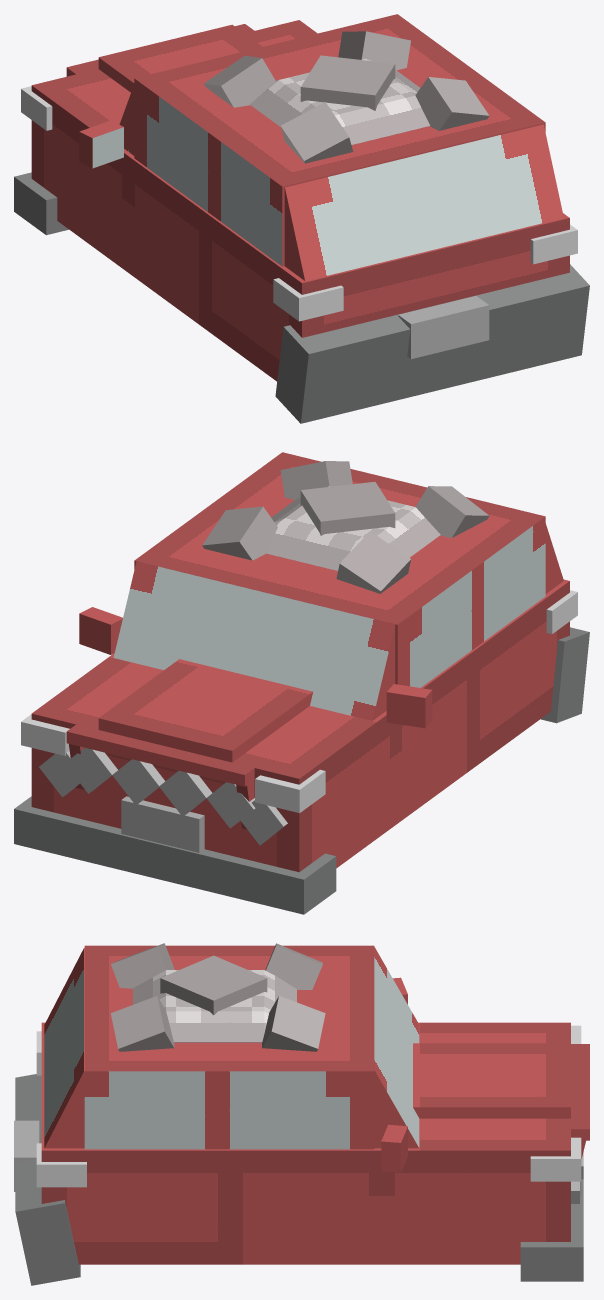
File: dante_car32.fbx
The picture shows the model from 3 angles, top to bottom: view 1: azimuth 30°, elevation 25°; view 2: azimuth 150°, elevation 25°; view 3: azimuth 270°, elevation 25°; orthographic projection. The views are drawn at different scales.
Visible parts, largest first — view 1: cube, cube_1, cube_5, cube_7, group2, beveled_cuboid, cube_2, cube_19, cube_3, cube_20, group, cube_21 (+2 smaller); view 2: cube, cube_1, cube_6, group2, cube_3, cube_2, beveled_cuboid, cube_4, group, cube_18, cube_7, cube_16 (+9 smaller); view 3: cube, cube_1, group2, cube_2, cube_5, cube_6, cube_7, beveled_cuboid, cube_3, cube_4, cube_17, cube_21 (+2 smaller).
Boxes of the visible parts, x1=… form: cube: x1=31, y1=20, x2=569, y2=381; cube_1: x1=134, y1=14, x2=545, y2=266; cube_5: x1=284, y1=124, x2=563, y2=280; cube_7: x1=275, y1=264, x2=589, y2=423; group2: x1=204, y1=31, x2=489, y2=163; beveled_cuboid: x1=250, y1=58, x2=430, y2=144; cube_2: x1=98, y1=24, x2=262, y2=92; cube_19: x1=398, y1=296, x2=489, y2=359; cube_3: x1=14, y1=172, x2=68, y2=235; cube_20: x1=273, y1=278, x2=343, y2=321; group: x1=79, y1=120, x2=123, y2=168; cube_21: x1=530, y1=224, x2=577, y2=264; cube: x1=31, y1=579, x2=569, y2=872; cube_1: x1=134, y1=452, x2=545, y2=687; cube_6: x1=113, y1=561, x2=395, y2=720; group2: x1=202, y1=461, x2=489, y2=593; cube_3: x1=14, y1=796, x2=336, y2=914; cube_2: x1=98, y1=659, x2=312, y2=762; beveled_cuboid: x1=265, y1=486, x2=440, y2=570; cube_4: x1=66, y1=724, x2=254, y2=786; group: x1=79, y1=607, x2=432, y2=728; cube_18: x1=121, y1=796, x2=204, y2=852; cube_7: x1=540, y1=627, x2=589, y2=723; cube_16: x1=255, y1=769, x2=325, y2=813; cube: x1=41, y1=1022, x2=570, y2=1264; cube_1: x1=84, y1=945, x2=374, y2=1149; group2: x1=111, y1=943, x2=325, y2=1051; cube_2: x1=413, y1=1043, x2=570, y2=1118; cube_5: x1=44, y1=948, x2=84, y2=1148; cube_6: x1=374, y1=947, x2=419, y2=1148; cube_7: x1=15, y1=1074, x2=80, y2=1285; beveled_cuboid: x1=133, y1=970, x2=296, y2=1042; cube_3: x1=520, y1=1179, x2=583, y2=1281; cube_4: x1=571, y1=1044, x2=589, y2=1140; cube_17: x1=530, y1=1137, x2=581, y2=1181; cube_21: x1=36, y1=1143, x2=86, y2=1187.
Size of the model in its own units: 48.48 by 33.87 by 71.41.
Materials: 2 (2 with a texture image).
